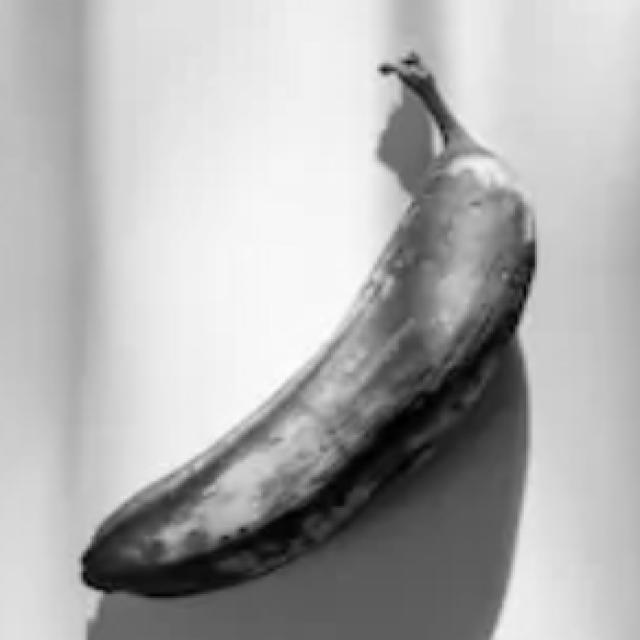Rotten: (51, 26, 566, 607)
